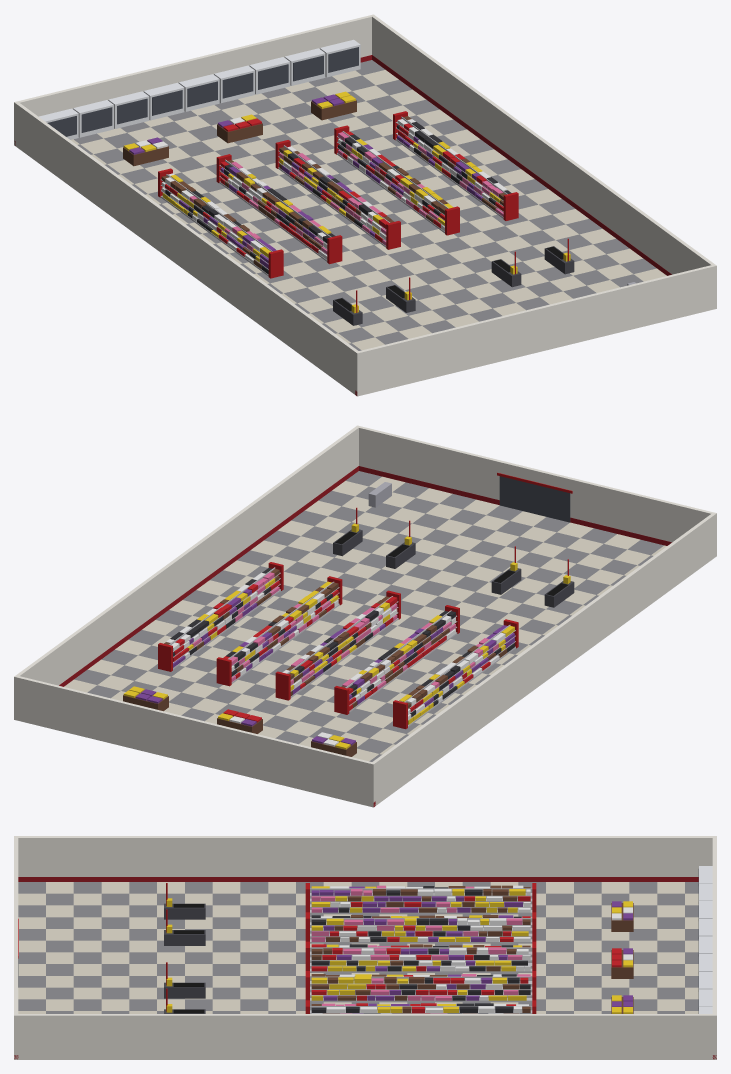
File: supermarket.dae
3 views of the same model, one above another, from view 1: azimuth 30°, elevation 25°; view 2: azimuth 150°, elevation 25°; view 3: azimuth 270°, elevation 25° (orthographic). The views are drawn at different scales.
Visible parts, largest first — view 1: n2, n1, n0, n14, n13, n4, n6, n7, n9, n12, n8, n5 (+4 smaller); view 2: n2, n1, n0, n4, n6, n12, n9, n7, n3, n8, n5, n10 (+3 smaller); view 3: n2, n0, n1, n4, n9, n6, n7, n10, n3, n5, n8, n11 (+4 smaller).
Boxes of the visible parts, x1,y1,x2,y2 form: n2: (14, 14, 716, 396); n1: (71, 70, 666, 350); n0: (74, 60, 656, 350); n14: (47, 47, 358, 136); n13: (39, 39, 360, 139); n4: (160, 116, 507, 276); n6: (123, 100, 505, 269); n7: (135, 117, 507, 263); n9: (123, 91, 570, 313); n12: (158, 111, 568, 312); n8: (165, 118, 503, 256); n5: (165, 122, 511, 274); n2: (14, 425, 716, 807); n1: (64, 476, 666, 761); n0: (74, 471, 663, 761); n4: (169, 567, 515, 726); n6: (123, 569, 507, 756); n12: (158, 472, 572, 729); n9: (123, 523, 570, 749); n7: (166, 572, 505, 746); n3: (59, 466, 671, 806); n8: (173, 581, 490, 722); n5: (170, 568, 514, 717); n10: (135, 589, 514, 745); n2: (14, 836, 716, 1059); n0: (18, 882, 698, 1013); n1: (18, 882, 698, 1013); n4: (310, 888, 532, 1013); n9: (166, 886, 632, 1013); n6: (311, 885, 633, 1013); n7: (312, 885, 632, 1013); n10: (311, 886, 632, 1013); n3: (14, 877, 716, 1059); n5: (311, 886, 530, 1013); n8: (311, 896, 621, 1013); n11: (311, 885, 530, 1013).
Size of the model in its own units: 30.6 by 50.6 by 3.6.
